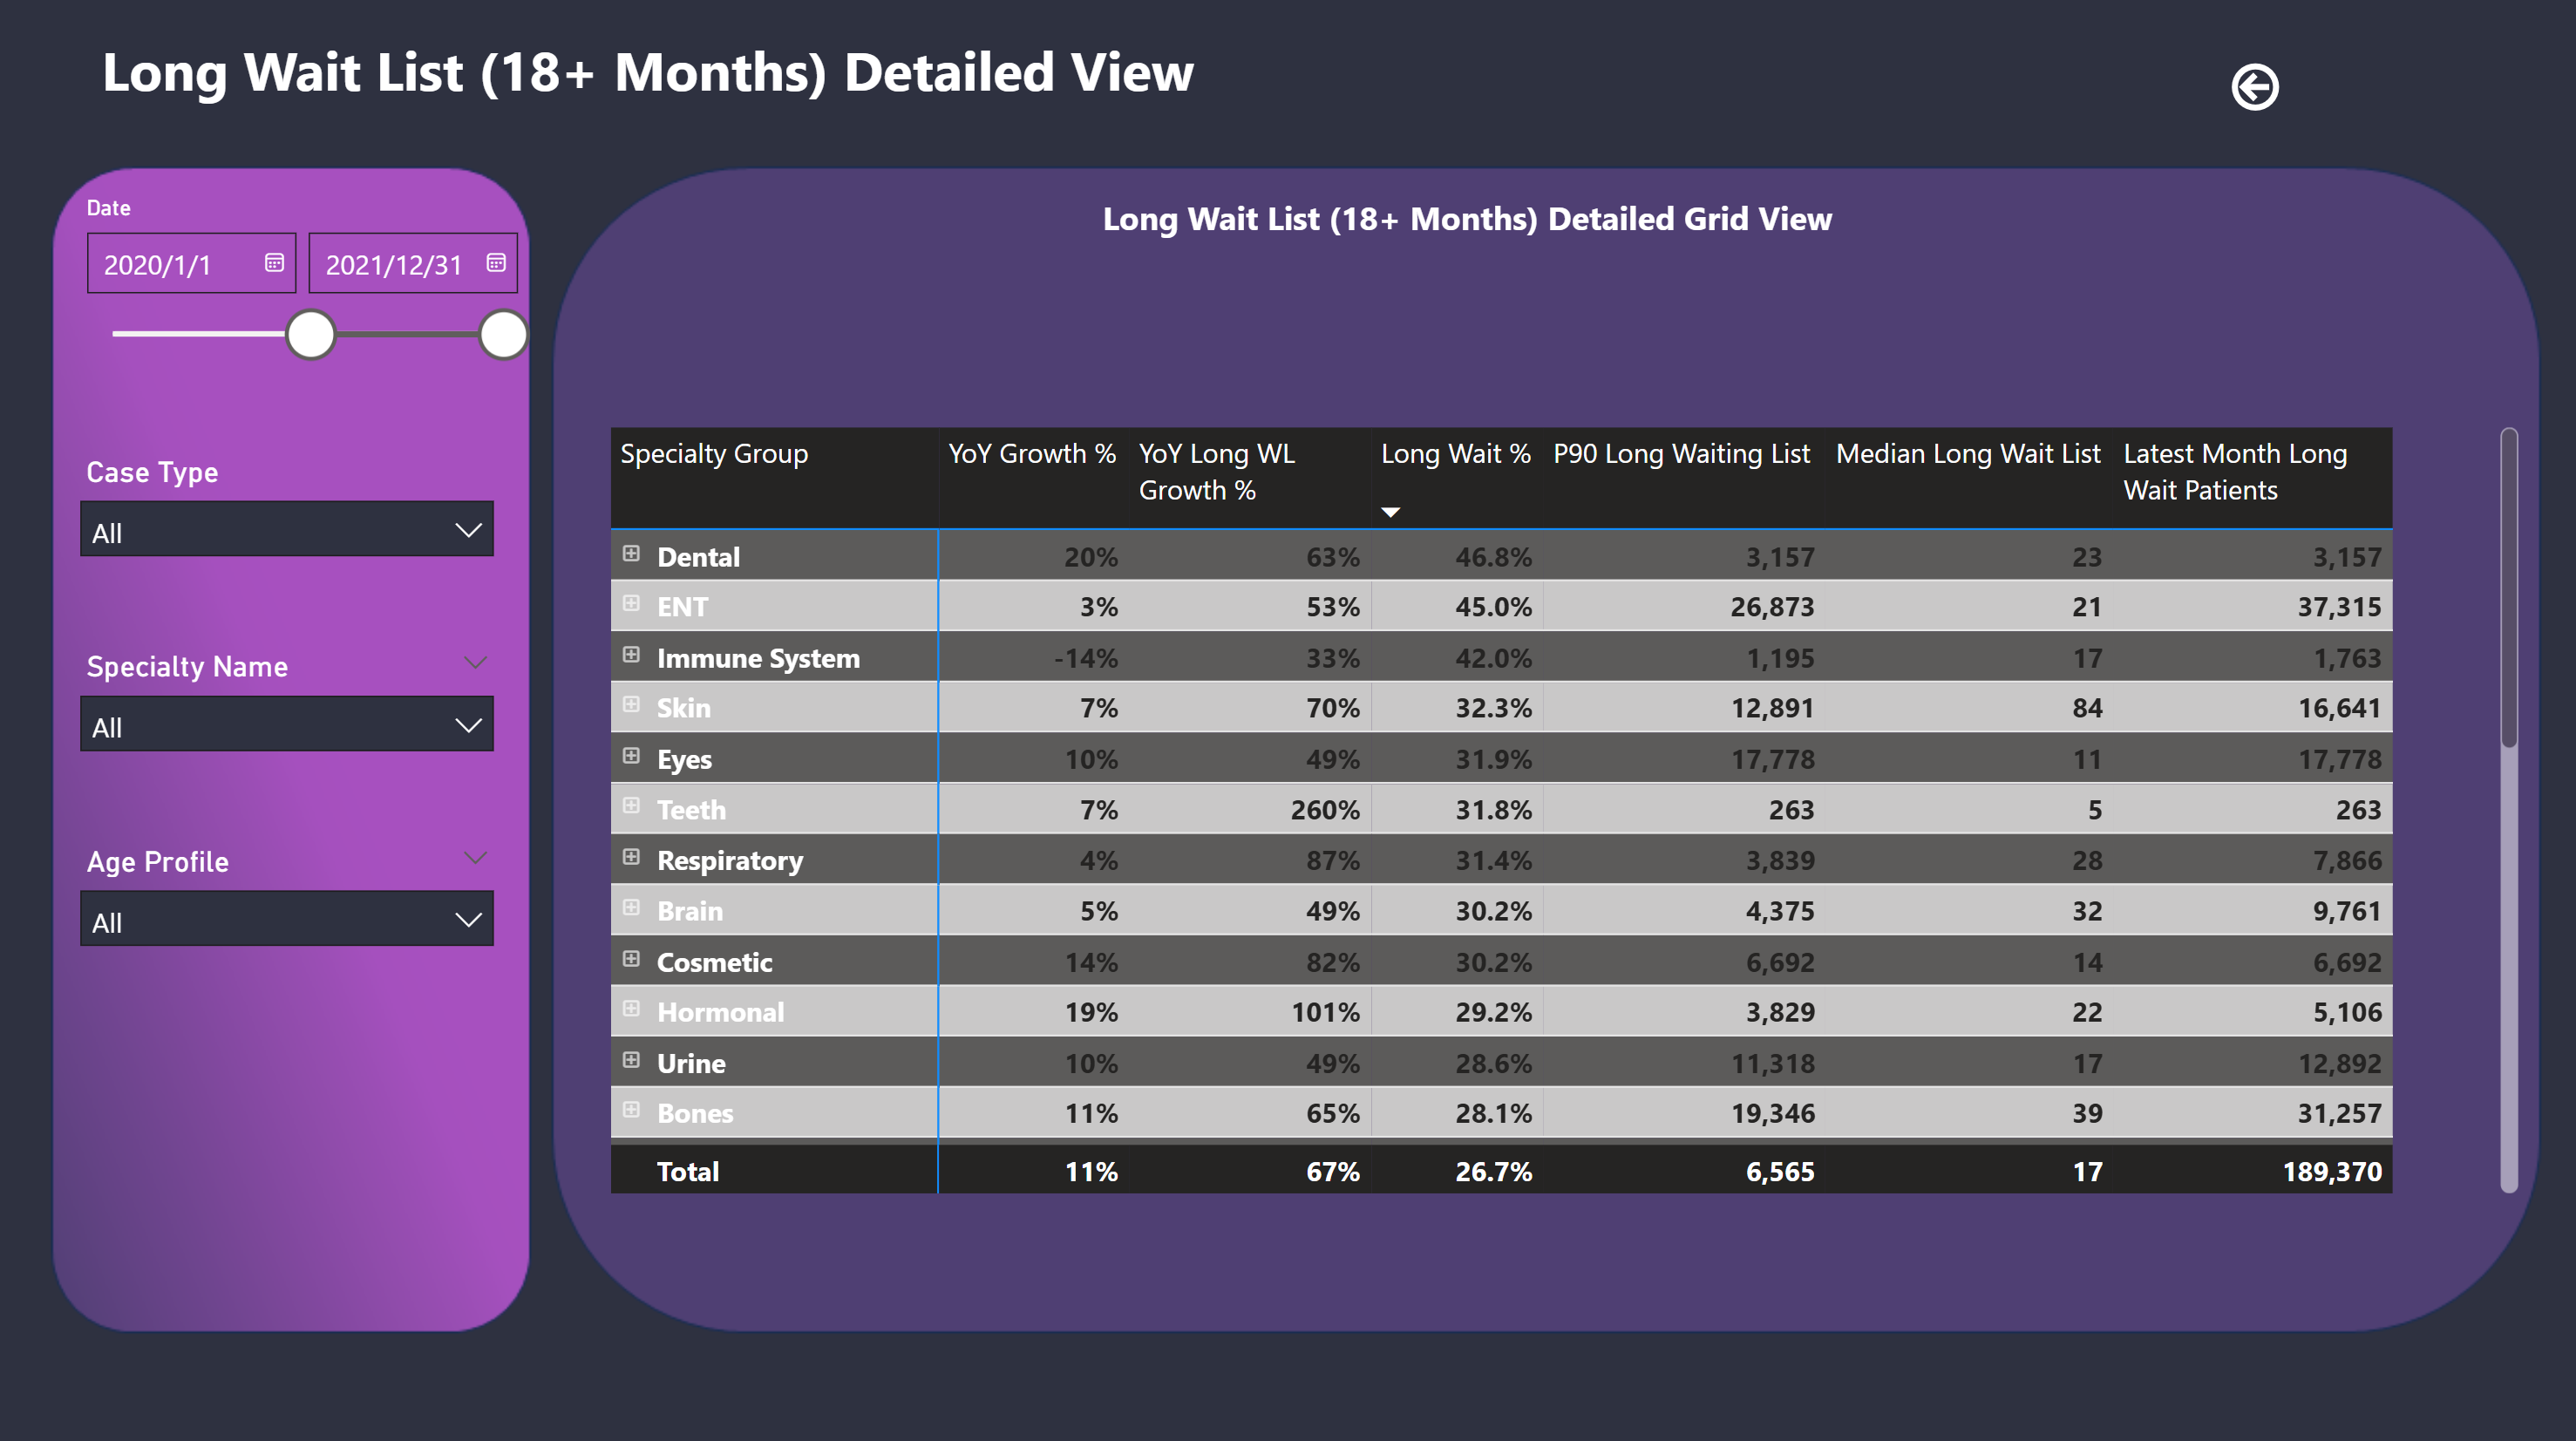

Layout of this report page (visuals, bound fields, positions):
{"tool":"powerbi","page":{"name":"Long WL Detail","canvas":[1280,720],"ordinal":5},"visuals":[{"type":"slicer","fields":{"Values":["DateTable.Date"]},"box":[32.1,95.6,239.8,96.4],"z":0},{"type":"slicer","fields":{"Values":["All_Data.Case_Type"]},"box":[32,224,224,64],"z":1000},{"type":"slicer","fields":{"Values":["All_Data.Specialty_Name"]},"box":[32,320,224,64],"z":2000},{"type":"textbox","box":[47.8,15.7,551,53.5],"z":3000},{"type":"slicer","fields":{"Values":["All_Data.Age_Profile"]},"box":[32,416,224,64],"z":4000},{"type":"actionButton","box":[1099.9,31.4,112.1,32.1],"z":5000},{"type":"textbox","box":[504.6,95.6,444.7,37.8],"z":6000},{"type":"pivotTable","fields":{"Rows":["Mapping_Specialty.Specialty Group Hierarchy.Specialty Group","Mapping_Specialty.Specialty Group Hierarchy.Specialty","All_Data.Age_Profile"],"Values":["Measures Table.YoY Growth %","Measures Table.YoY Long WL Growth %","Measures Table.Long Wait %","Measures Table.P90 Long Waiting List","Measures Table.Median Long Wait List","Measures Table.Latest Month Long Wait Patients"]},"box":[299,210.1,951.9,388.5],"z":7000}]}

Visuals, with their boxes in screenshot pixels (x1, y1, x2, y2), scaled from the page's 1280x720 canvas onto the 2576x1441 screenshot:
slicer - DateTable.Date: locate(65, 191, 547, 384)
slicer - All_Data.Case_Type: locate(65, 448, 515, 576)
slicer - All_Data.Specialty_Name: locate(65, 641, 515, 769)
textbox: locate(96, 31, 1205, 139)
slicer - All_Data.Age_Profile: locate(65, 833, 515, 961)
actionButton: locate(2213, 63, 2439, 127)
textbox: locate(1016, 191, 1911, 267)
pivotTable - Mapping_Specialty.Specialty Group Hierarchy.Specialty Group x Mapping_Specialty.Specialty Group Hierarchy.Specialty: locate(602, 420, 2518, 1198)
